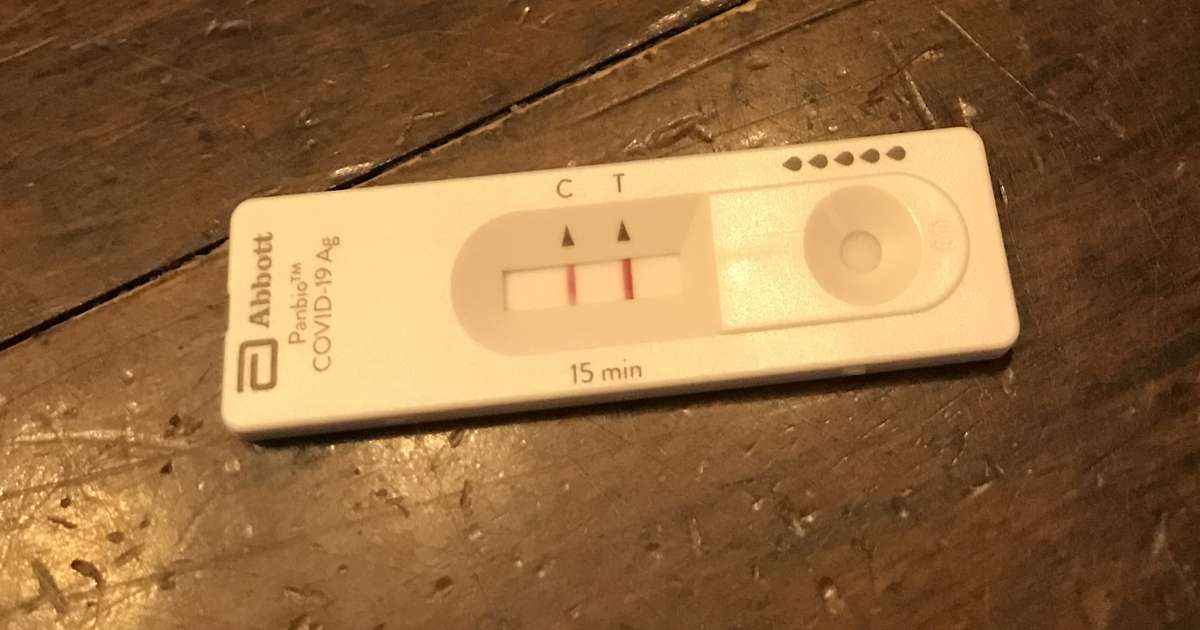positive: (487, 261, 707, 316)
